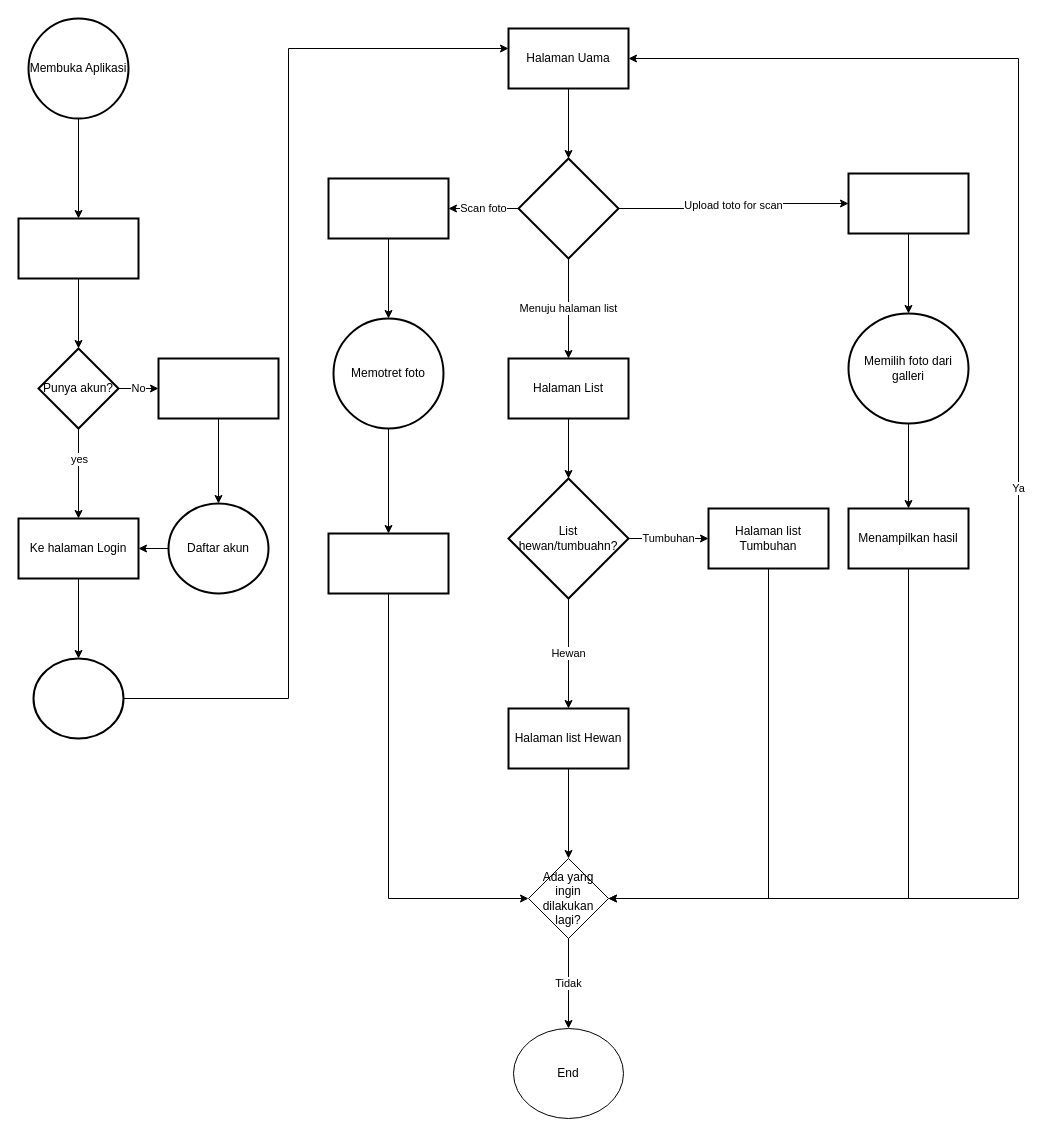
Some shapes in this 1044 by 1136 pixel diagram are drawn without their labels. The shapes that lost their labels are listed below. From the top down, each one's box as (x1, y1, x2, y2) in pixels, then its label:
(327, 177, 449, 239): Halaman scan foto
(517, 157, 619, 259): Apa yang ingin dilakukan?
(847, 172, 969, 234): Halaman upload foto
(17, 217, 139, 279): Halaman login
(157, 357, 279, 419): Ke halaman register
(327, 532, 449, 594): Menampilkan hasil scan
(32, 657, 124, 739): Login
